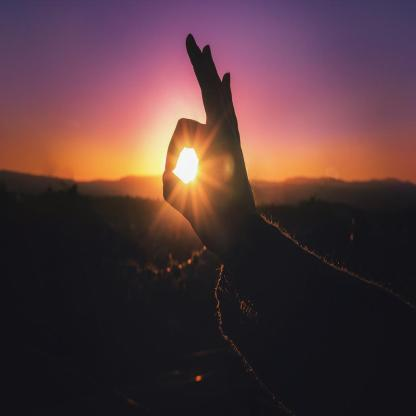other: (165, 130, 206, 194)
